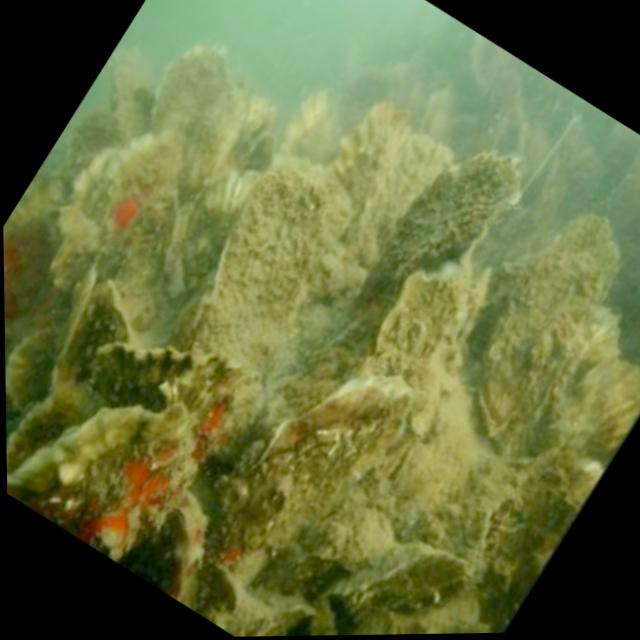Oyster-Closed: (210, 374, 412, 584)
Oyster-Indeterminate: (472, 206, 626, 450), (350, 160, 520, 319), (7, 408, 192, 550), (51, 140, 179, 327), (210, 169, 319, 367), (359, 263, 469, 441), (85, 344, 237, 462), (358, 137, 455, 263), (333, 103, 413, 210), (151, 50, 230, 134), (6, 331, 57, 404)
